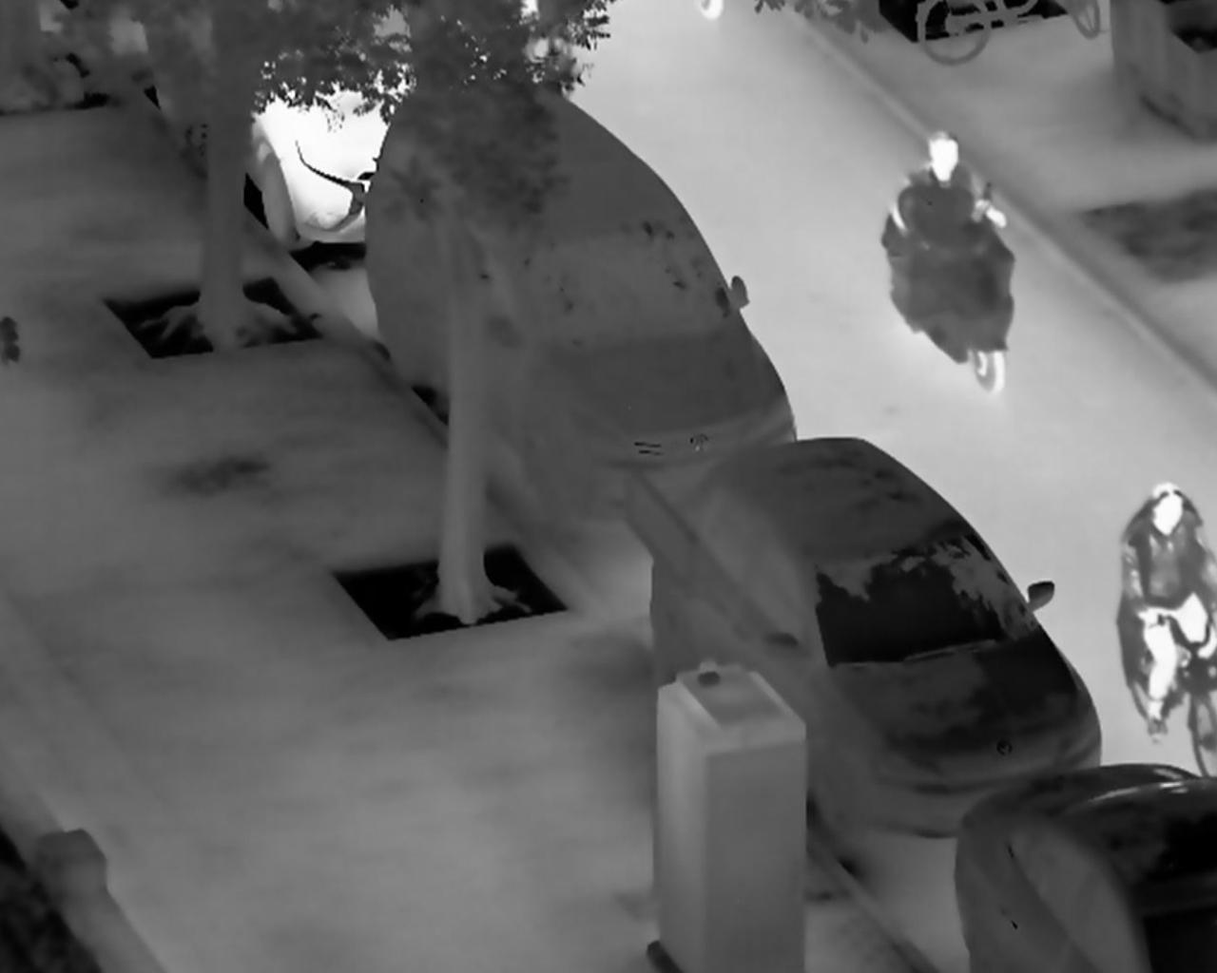person: (1116, 481, 1217, 746), (885, 124, 1012, 249)
